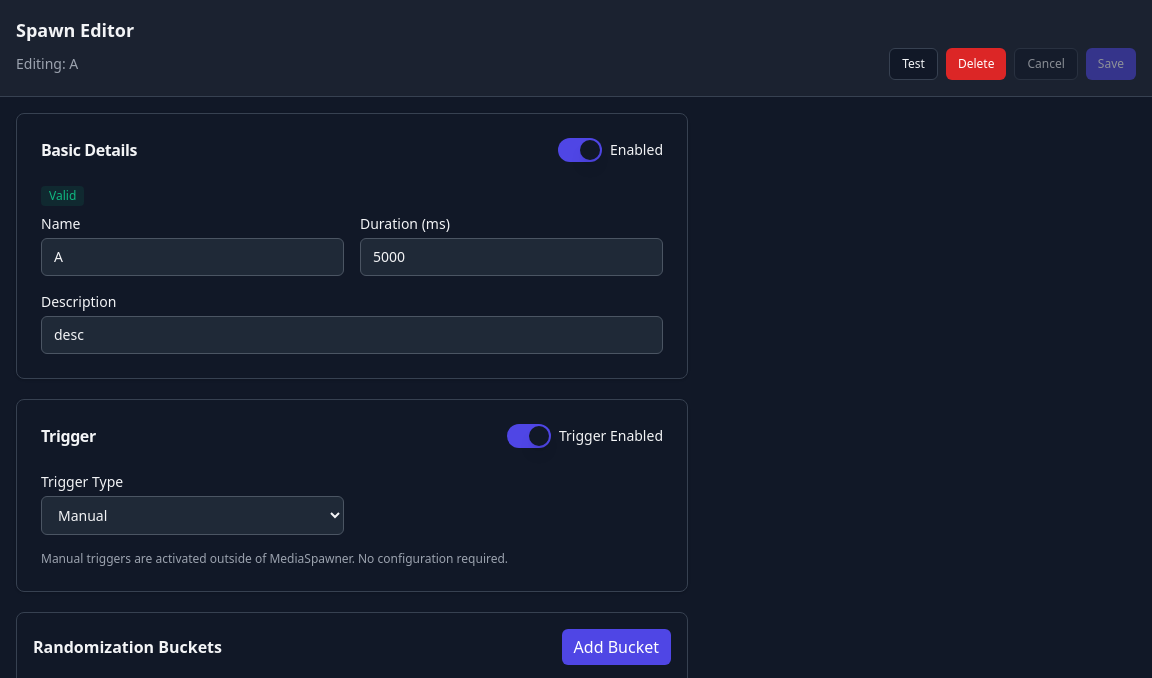
it: SpawnEditorWorkspace › shows fallback save error when updateSpawn rejects with non-Error
Expected: the text "Editing: A" is shown, [16,54,78,74]
Replace the text in the field labelled "Name" with "A2": (192, 257) [41,238,344,276]
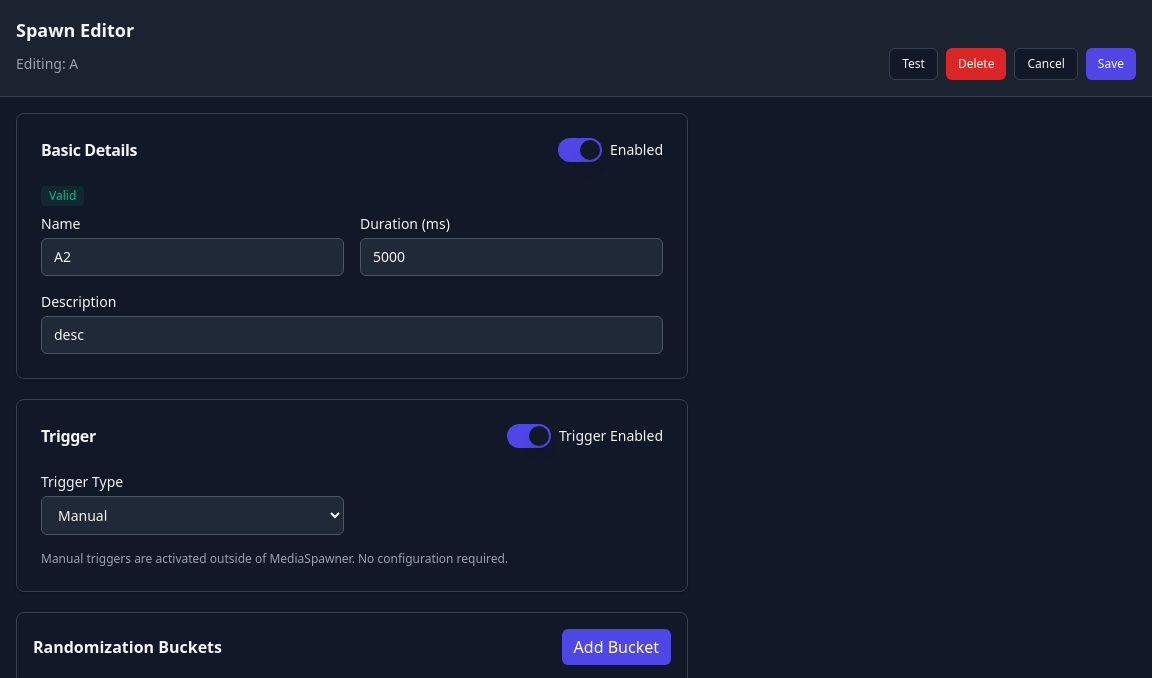
Result: the button with aria-label "Save spawn" is enabled
Click the button with aria-label "Save spawn": (1111, 64) [1086,48,1136,80]
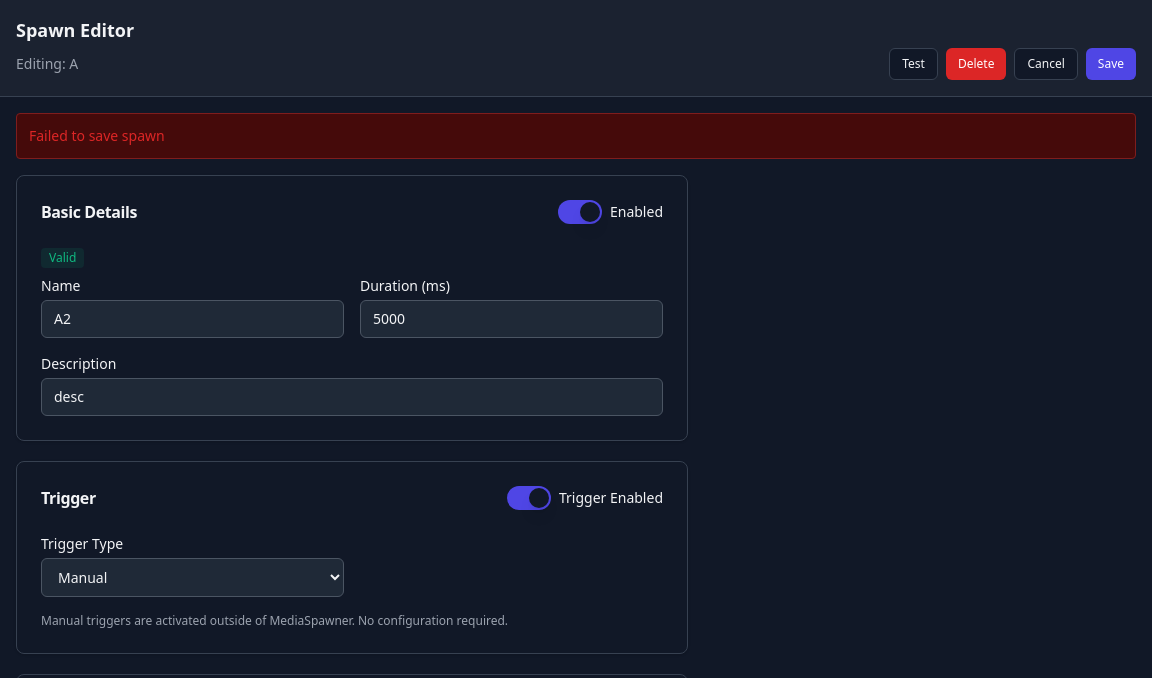
Result: the text "Failed to save spawn" is shown at [16,113,1136,159]
